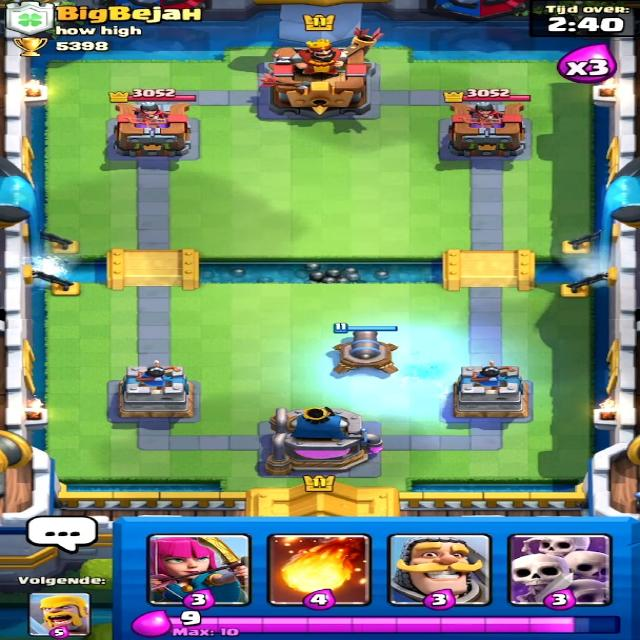Cannon_Troop: (330, 326, 402, 377)
Fireball_Card: (264, 530, 384, 608)
